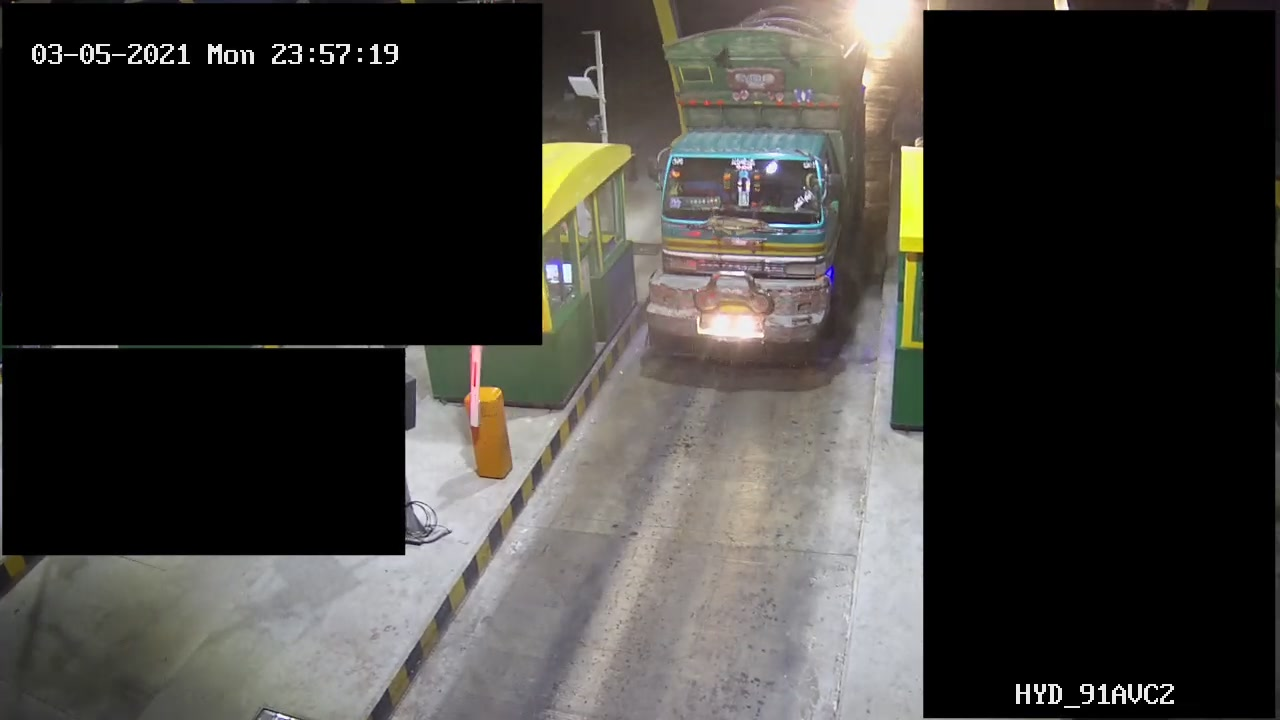F5: (641, 2, 872, 357)
